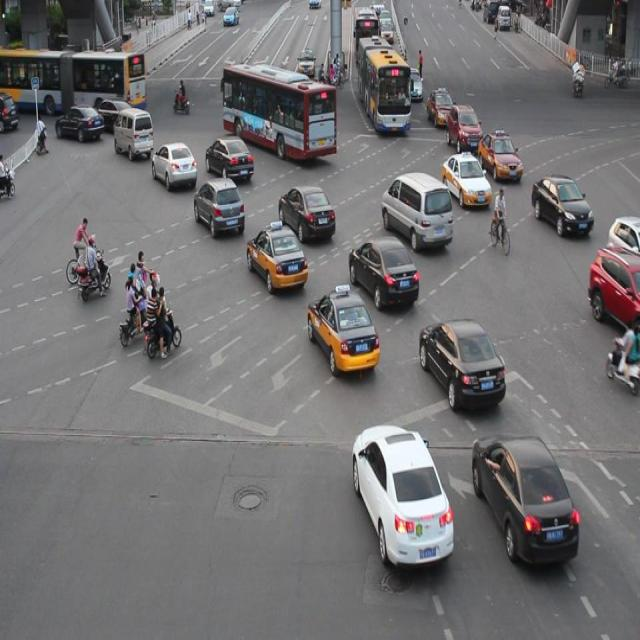car: (470, 429, 578, 564), (351, 422, 452, 564), (418, 316, 505, 407), (306, 287, 380, 373), (348, 234, 418, 306), (587, 244, 640, 336), (246, 222, 307, 291), (530, 172, 593, 238), (277, 182, 336, 242), (193, 176, 245, 236), (440, 151, 490, 208), (205, 134, 253, 182), (478, 130, 522, 182), (152, 141, 197, 187), (605, 215, 640, 266), (447, 102, 481, 154), (93, 96, 134, 130)
truck: (379, 171, 452, 250), (113, 106, 153, 157)
van: (222, 64, 336, 160)
